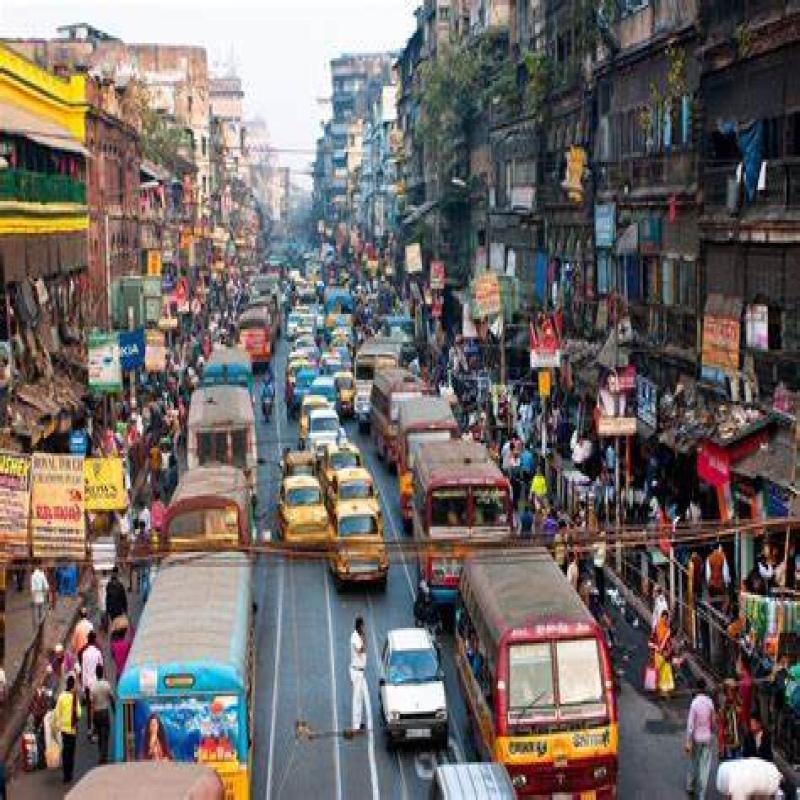bus: (452, 556, 614, 793), (418, 450, 514, 581)
car: (321, 505, 386, 593), (286, 467, 329, 538)
